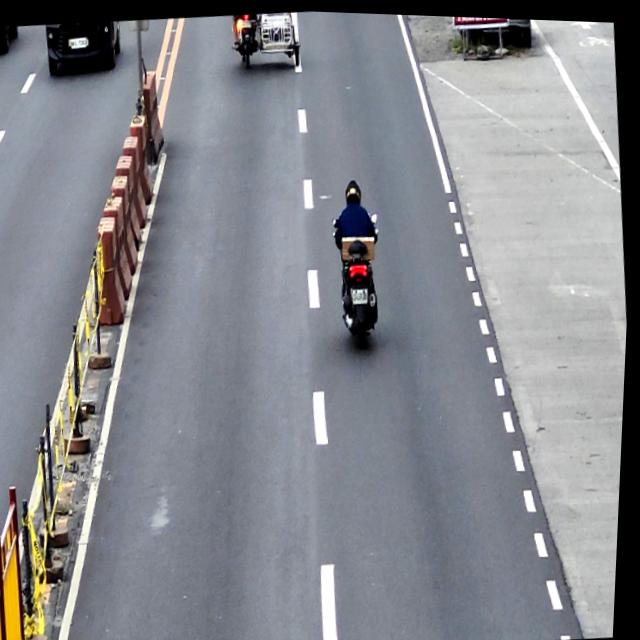License-Plate: (353, 285, 372, 302)
Motorcycle: (328, 207, 390, 344)
Tricycle: (231, 8, 303, 72)
